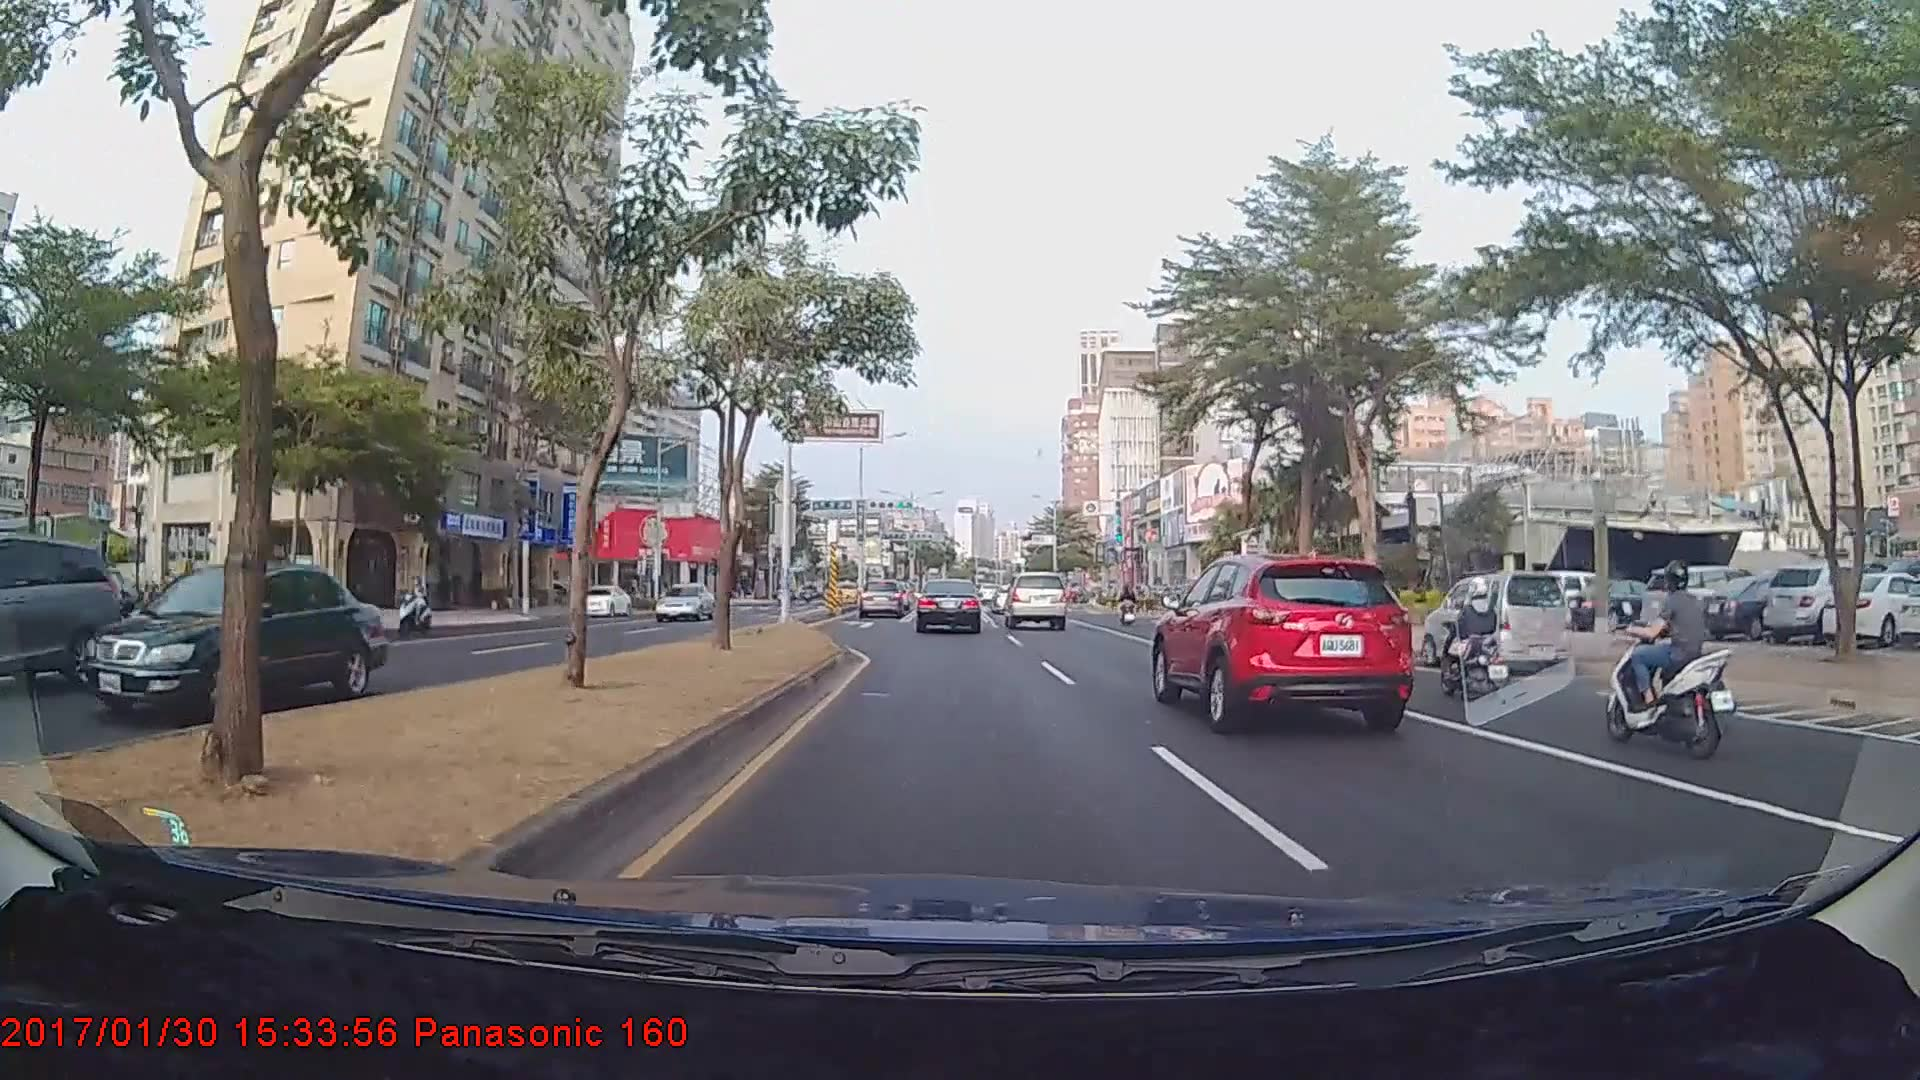rider: (1596, 555, 1742, 758), (1429, 572, 1526, 711), (394, 570, 435, 633), (1120, 588, 1143, 631)
vehicle: (76, 560, 388, 713), (1152, 547, 1413, 728), (0, 538, 122, 701), (1417, 569, 1571, 674), (1638, 565, 1765, 636), (1002, 569, 1068, 630), (915, 578, 982, 634), (652, 582, 715, 619), (569, 581, 630, 616), (857, 577, 908, 619)
